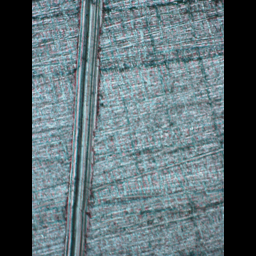d: (55, 0, 106, 255)
